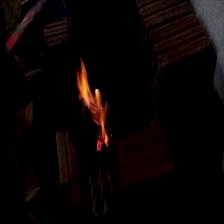fire: (69, 53, 120, 156)
